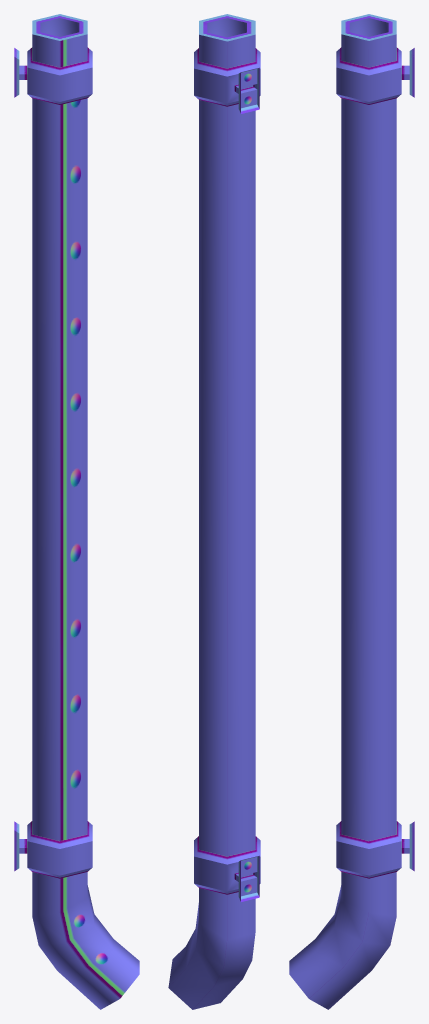
The model's file is sm_gutter_01.fbx.
The picture shows the model from 3 angles, left to right: view 1: azimuth 90°, elevation 25°; view 2: azimuth 210°, elevation 25°; view 3: azimuth 270°, elevation 25°; orthographic projection.
Visible parts, largest first — view 1: sm_gutter_01; view 2: sm_gutter_01; view 3: sm_gutter_01.
Part boxes in pixels (x1=…): sm_gutter_01: x1=14, y1=14, x2=139, y2=1009; sm_gutter_01: x1=168, y1=14, x2=260, y2=1009; sm_gutter_01: x1=289, y1=14, x2=414, y2=1009.
Bounding box in the file's own units: 27.33 × 390 × 45.36.
